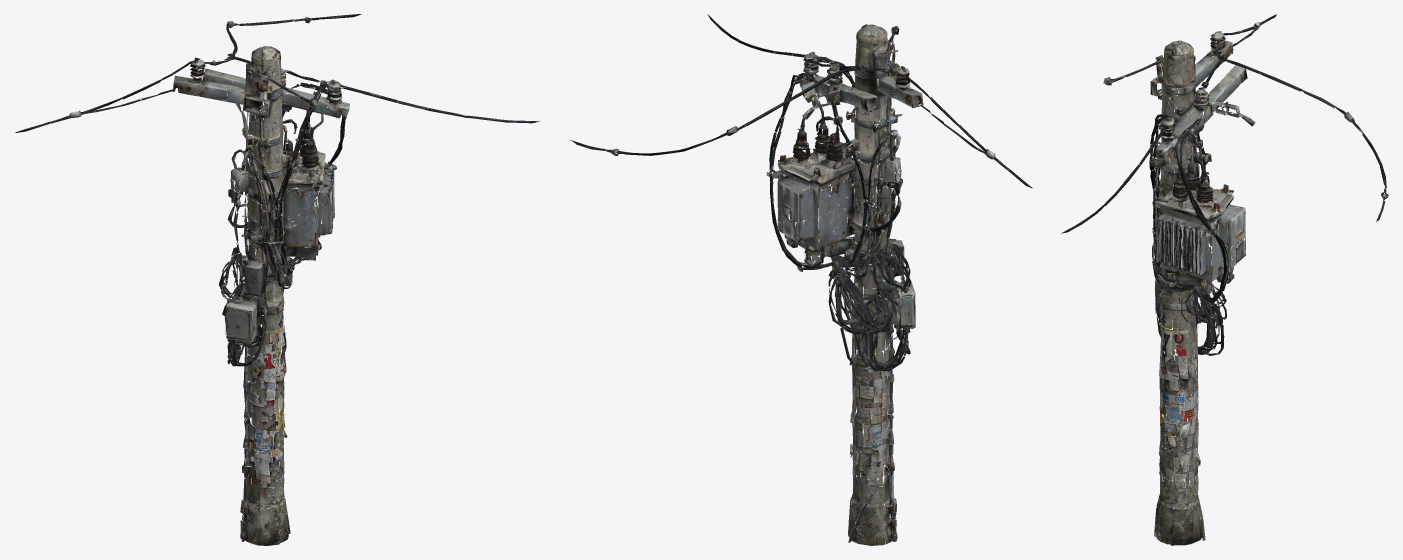
File: m_pole.glb
3 renders of one model, left to right at view 1: azimuth 30°, elevation 25°; view 2: azimuth 150°, elevation 25°; view 3: azimuth 270°, elevation 25°, orthographic. The views are drawn at different scales.
Parts seen in each view (by area): view 1: tripo_node_5626e198-9f94-4d28-80db-f9579e2dc7d4; view 2: tripo_node_5626e198-9f94-4d28-80db-f9579e2dc7d4; view 3: tripo_node_5626e198-9f94-4d28-80db-f9579e2dc7d4.
Boxes of the visible parts, <box> form: tripo_node_5626e198-9f94-4d28-80db-f9579e2dc7d4: <box>15,14,539,545</box>; tripo_node_5626e198-9f94-4d28-80db-f9579e2dc7d4: <box>570,14,1032,545</box>; tripo_node_5626e198-9f94-4d28-80db-f9579e2dc7d4: <box>1061,14,1388,545</box>.
Size of the model in its own units: 8.53 by 9.5 by 5.71.
1 material, 1 textured.
